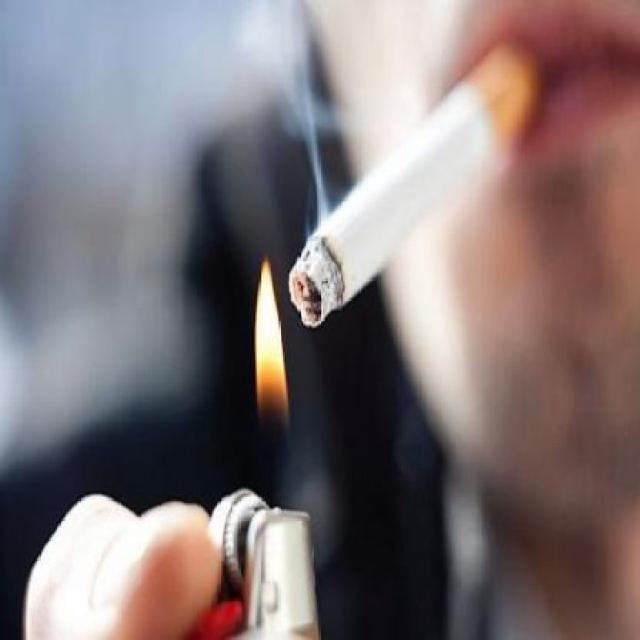smoke: (285, 34, 546, 332)
